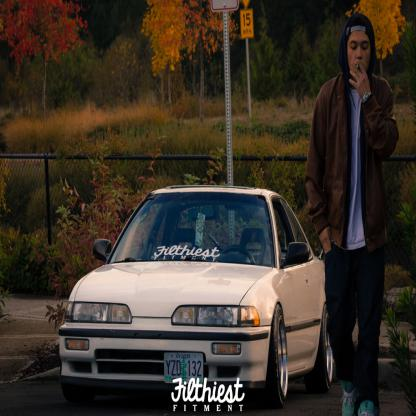Car: (58, 185, 333, 409)
